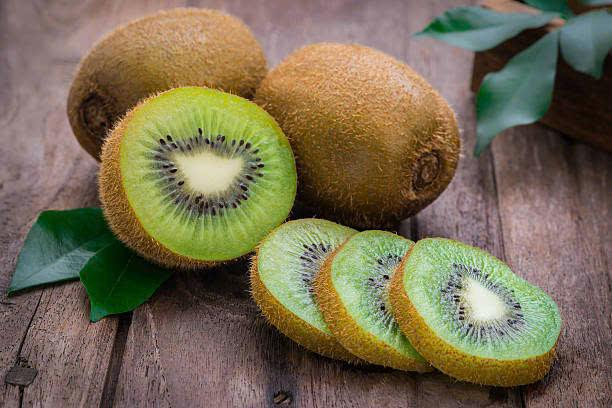kiwi: (285, 227, 570, 386), (120, 91, 300, 269), (281, 58, 469, 218), (67, 13, 282, 128)
